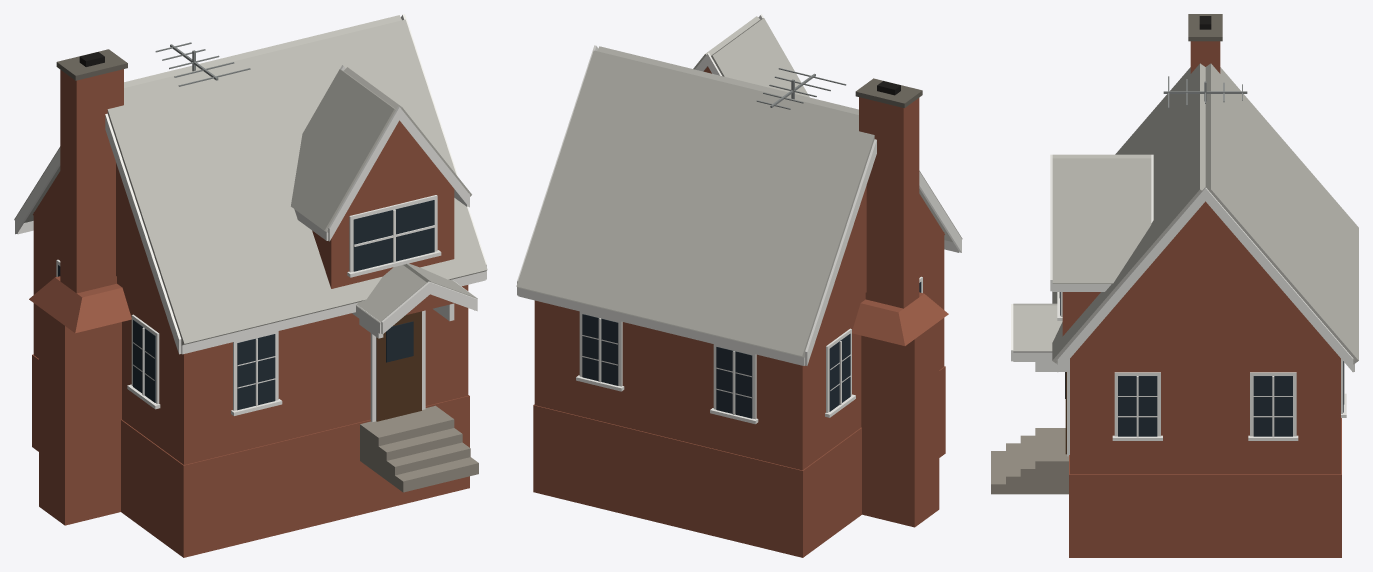
Rendered from brick-tudor-revival-house-0001.glb.
3 renders of one model, left to right at view 1: azimuth 30°, elevation 25°; view 2: azimuth 150°, elevation 25°; view 3: azimuth 270°, elevation 25°, orthographic. The views are drawn at different scales.
Visible parts, largest first — view 1: kit-brick-tudor-revival-house-0001; view 2: kit-brick-tudor-revival-house-0001; view 3: kit-brick-tudor-revival-house-0001.
Part boxes in pixels (x1,y1,x2,y2): kit-brick-tudor-revival-house-0001: (14, 14, 487, 557); kit-brick-tudor-revival-house-0001: (516, 14, 962, 557); kit-brick-tudor-revival-house-0001: (991, 14, 1358, 557).
Bounding box in the file's own units: 7.45 × 9.07 × 7.46.
